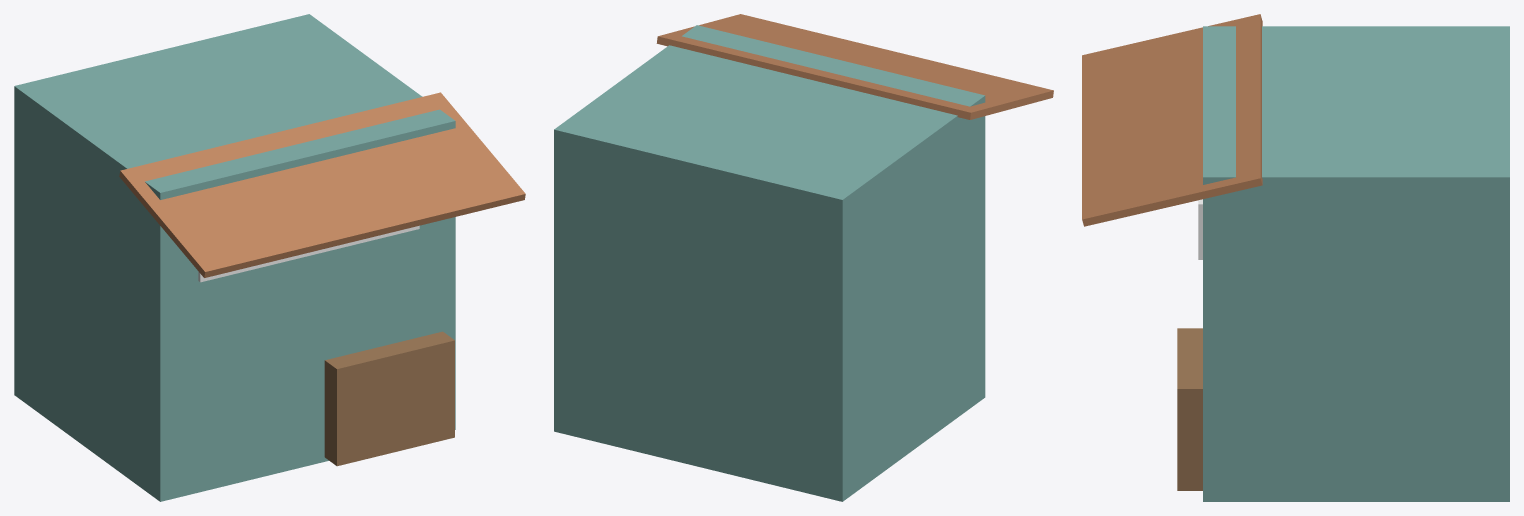
The model's file is tindahan.fbx.
The picture shows the model from 3 angles, left to right: view 1: azimuth 30°, elevation 25°; view 2: azimuth 150°, elevation 25°; view 3: azimuth 270°, elevation 25°; orthographic projection. The views are drawn at different scales.
Visible parts, largest first — view 1: Store_Building, Canopy_Roof, Store_Counter, Store_Signboard; view 2: Store_Building, Canopy_Roof; view 3: Store_Building, Canopy_Roof, Store_Counter.
Boxes of the visible parts, x1,y1,x2,y2 form: Store_Building: (14, 14, 455, 501); Canopy_Roof: (119, 92, 525, 277); Store_Counter: (324, 331, 454, 466); Store_Signboard: (198, 225, 419, 282); Store_Building: (554, 25, 985, 501); Canopy_Roof: (656, 14, 1053, 119); Store_Building: (1203, 26, 1509, 501); Canopy_Roof: (1082, 14, 1262, 226); Store_Counter: (1177, 328, 1202, 490).
Size of the model in its own units: 380 by 356 by 418.
